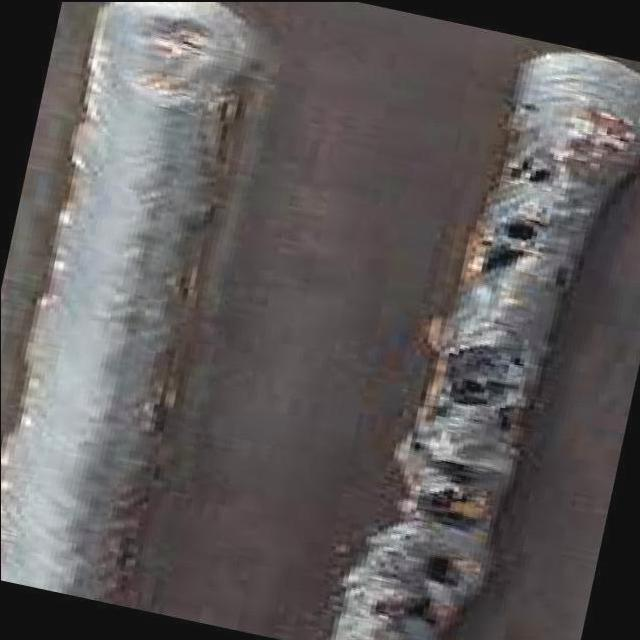defect: (474, 210, 548, 279), (410, 457, 478, 525), (442, 374, 538, 409), (361, 589, 442, 627), (410, 552, 463, 588), (464, 348, 532, 372), (502, 155, 557, 184), (400, 434, 425, 454), (510, 97, 539, 112)
